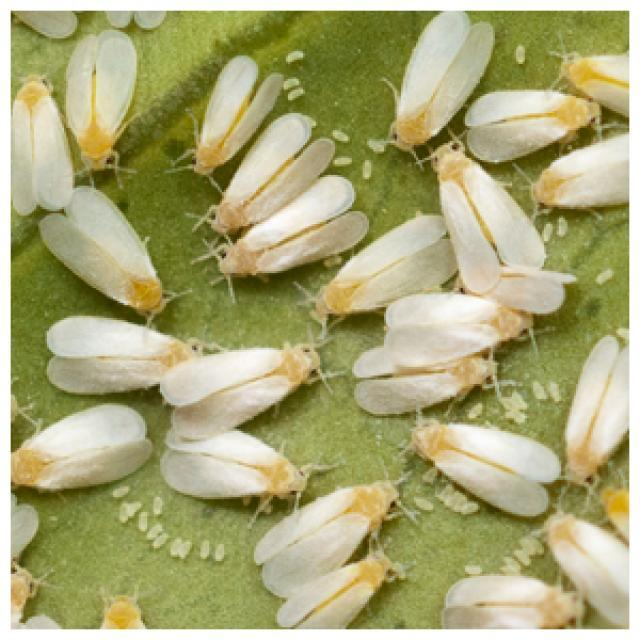Whitefly: (10, 9, 628, 626)
